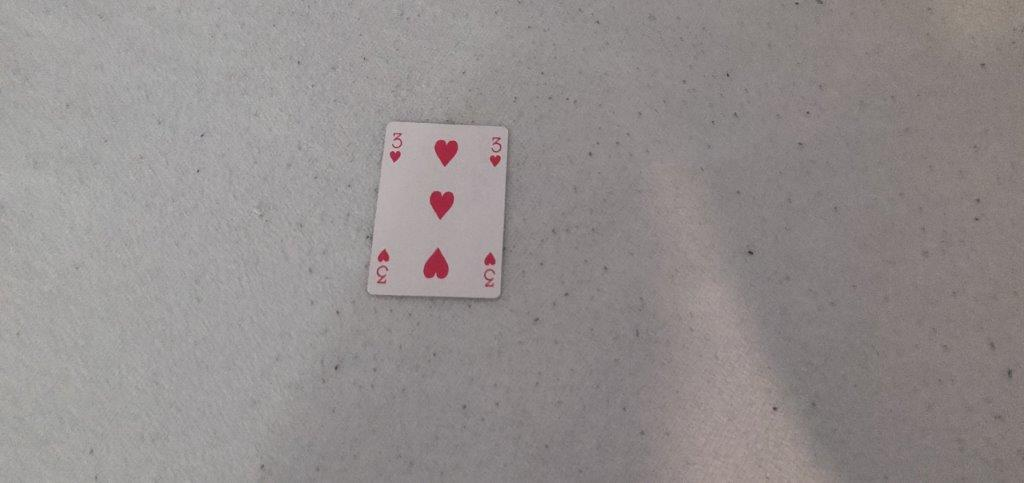3H: (485, 132, 505, 172), (386, 130, 408, 166)
